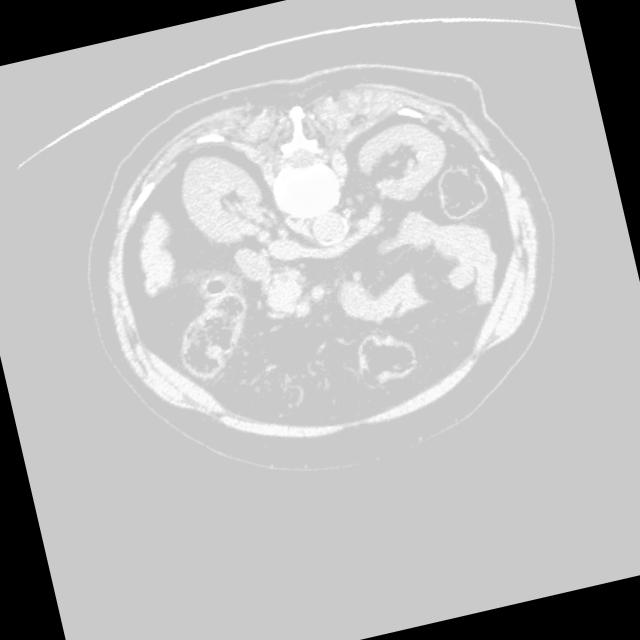cysts: (59, 29, 589, 506)
